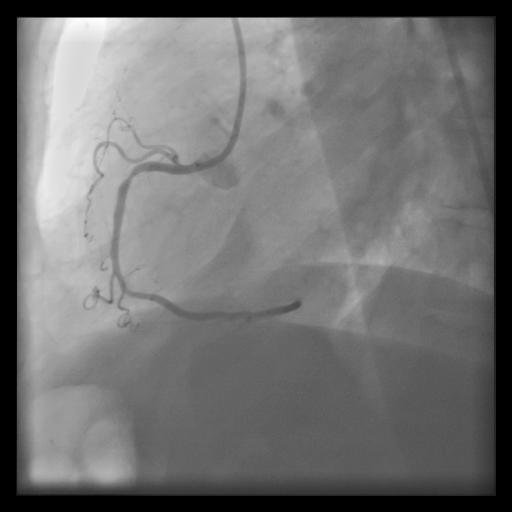Stenosis: (119, 166, 140, 184)
